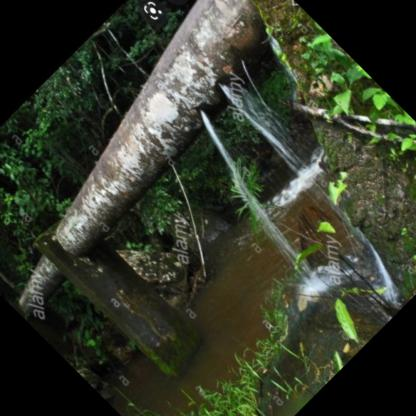burst: (181, 66, 243, 122)
